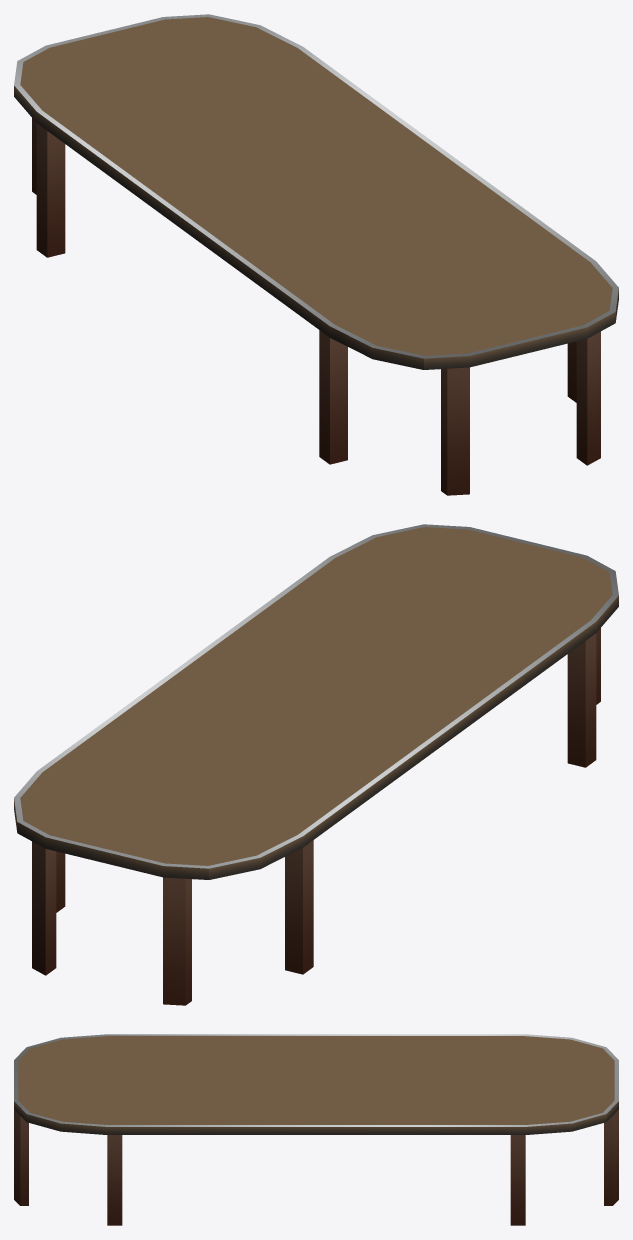
File: Table_Conference.fbx
3 renders of one model, top to bottom at view 1: azimuth 30°, elevation 25°; view 2: azimuth 150°, elevation 25°; view 3: azimuth 270°, elevation 25°, orthographic. The views are drawn at different scales.
Visible parts, largest first — view 1: Table_Conference; view 2: Table_Conference; view 3: Table_Conference.
Boxes of the visible parts, bbox=[...] form: Table_Conference: bbox=[14, 14, 618, 495]; Table_Conference: bbox=[14, 524, 618, 1005]; Table_Conference: bbox=[14, 1034, 618, 1225].
Bounding box in the file's own units: 148 × 73.38 × 408.
